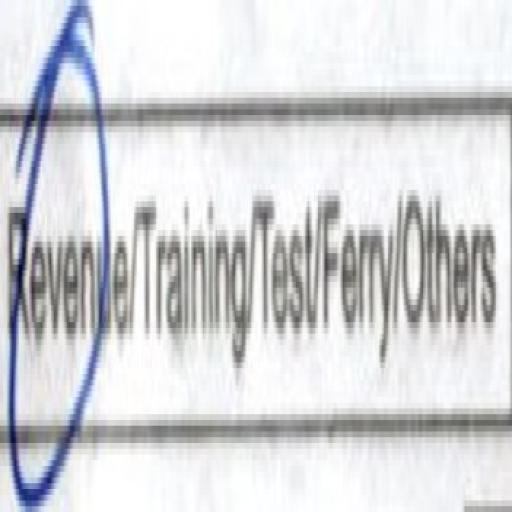check: (0, 0, 137, 507)
